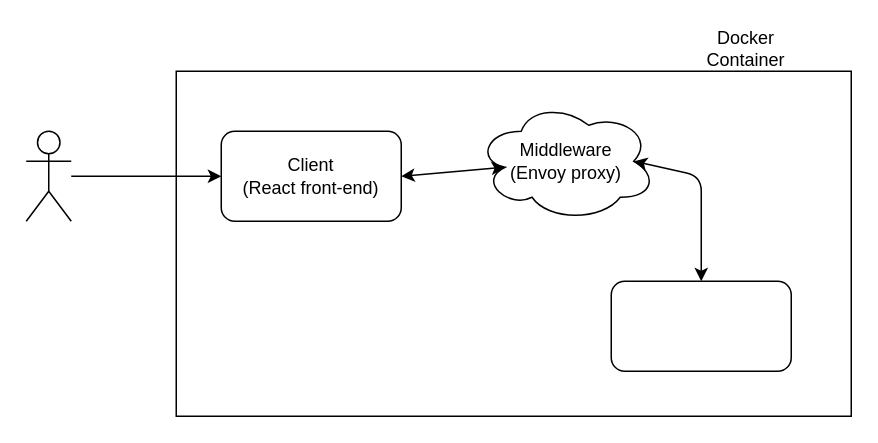
The diagram is 878 pixels wide and 443 high, and some of its shapes have lost their labels. Each missing label, with the centre of its shape:
"gRPC GO server" goes at (700,325).
"User" goes at (48,175).
